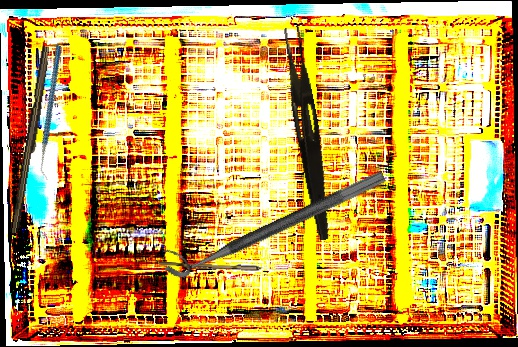Chopper: (0, 44, 105, 181)
Dressing Forceps: (275, 25, 341, 242)
Fixation Ring: (156, 152, 388, 284)
Scalpel Handle: (9, 45, 54, 235)
Surgical Spoon: (158, 261, 295, 273)
